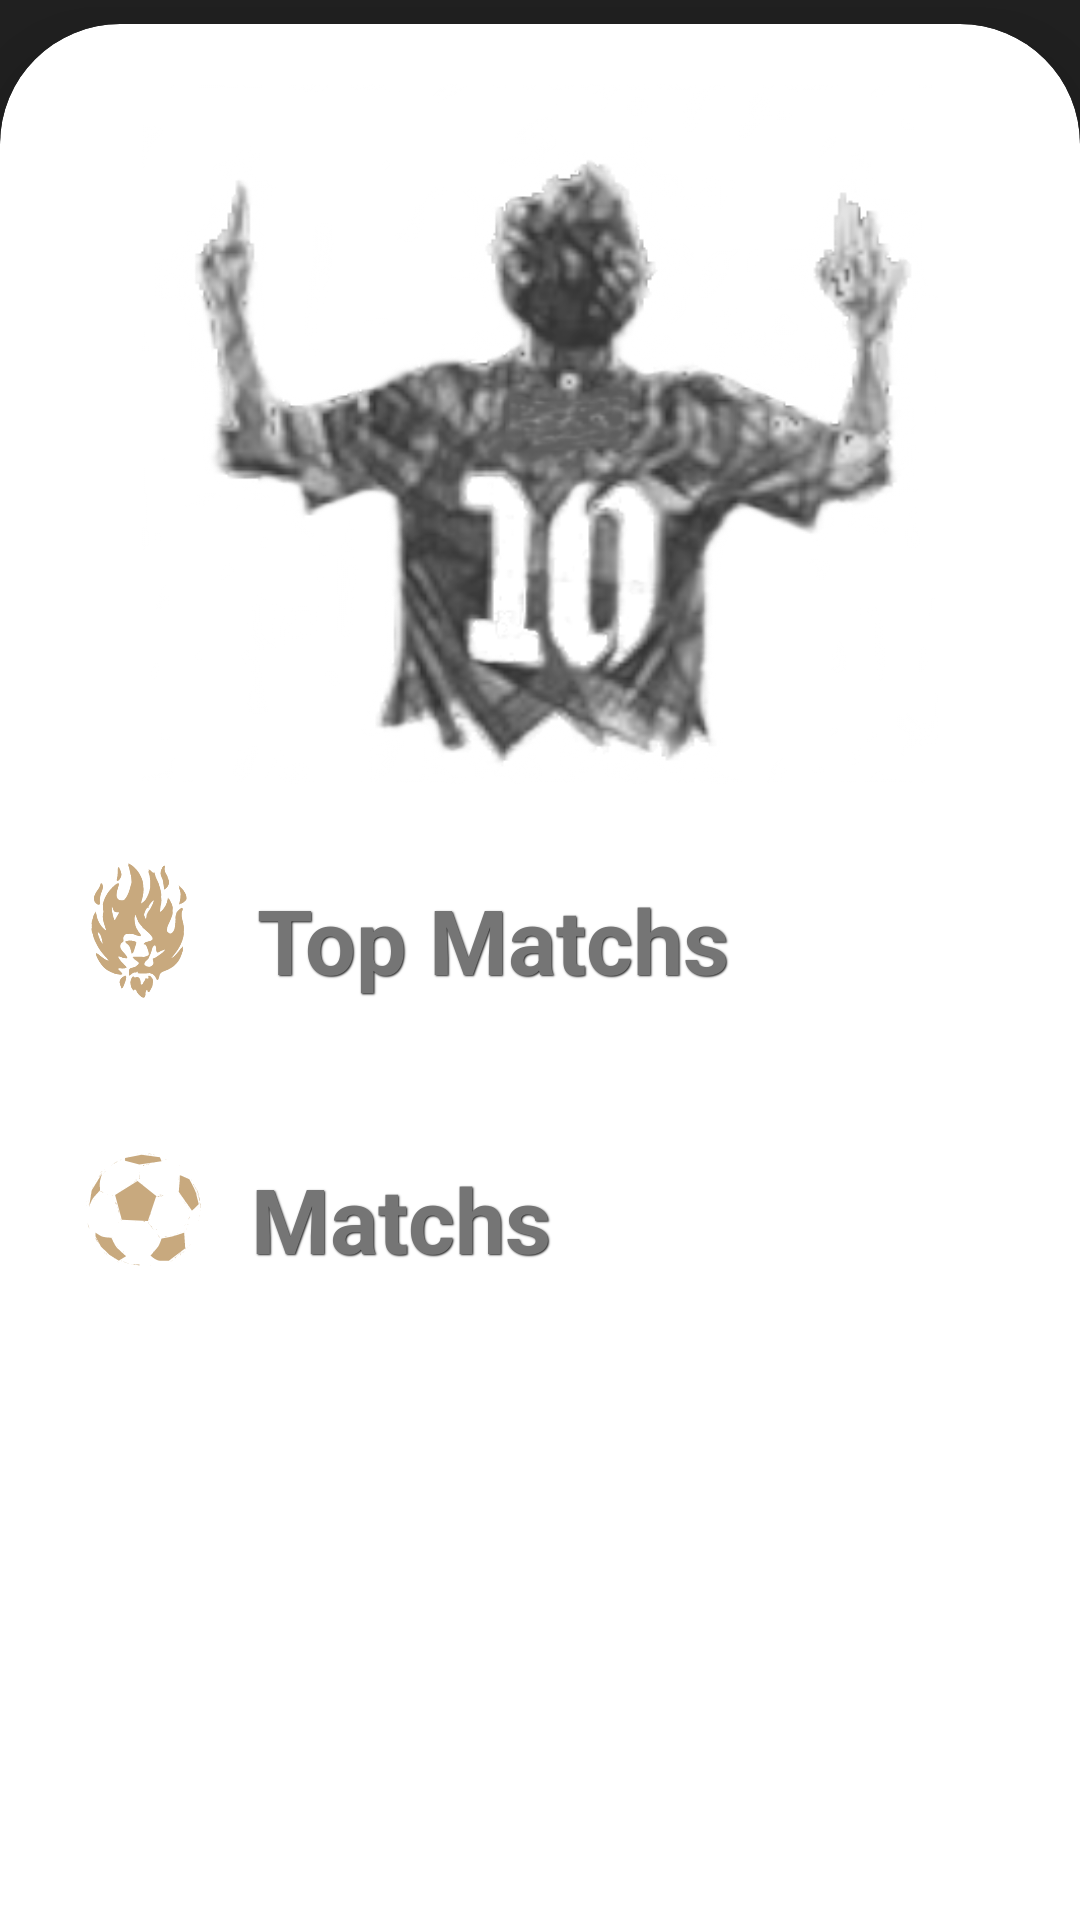

Where to tap for icons on this 1080w x 1920h app screen, as (x=x, y=y):
ball: (x=144, y=1209)
